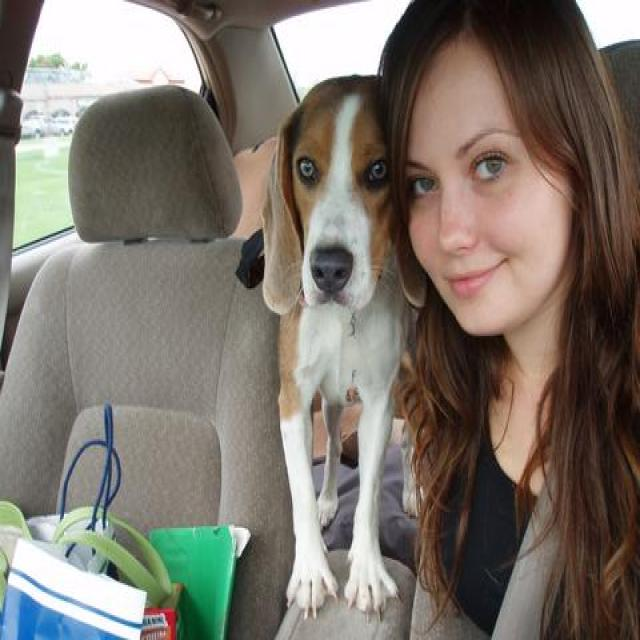Dogs: (258, 71, 422, 622)
